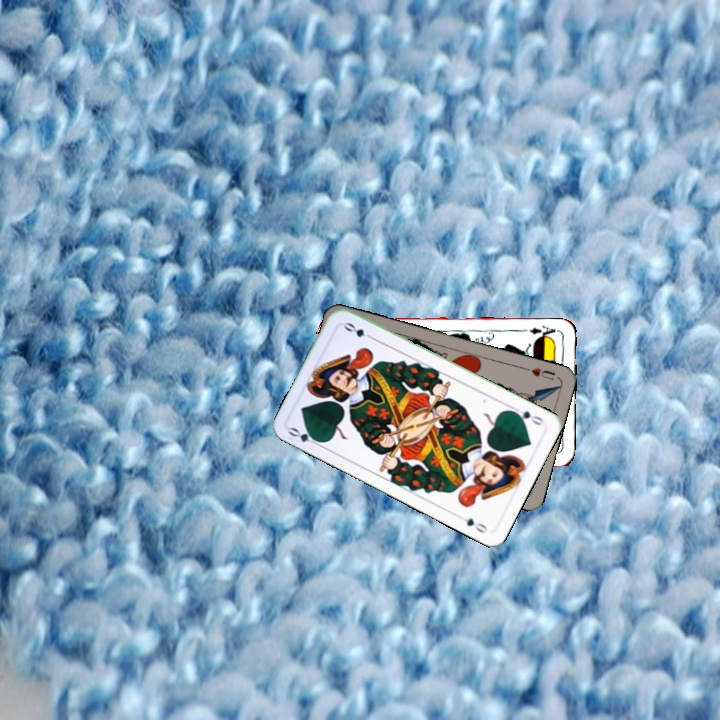EA: (525, 321, 561, 341)
GO: (284, 423, 324, 449), (507, 403, 546, 428)
HU: (520, 363, 558, 383)
